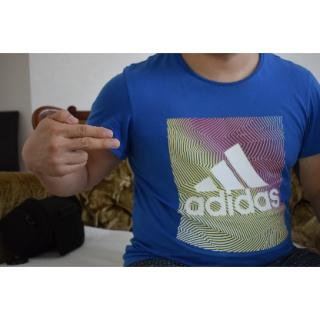AYN: (28, 106, 126, 177)
